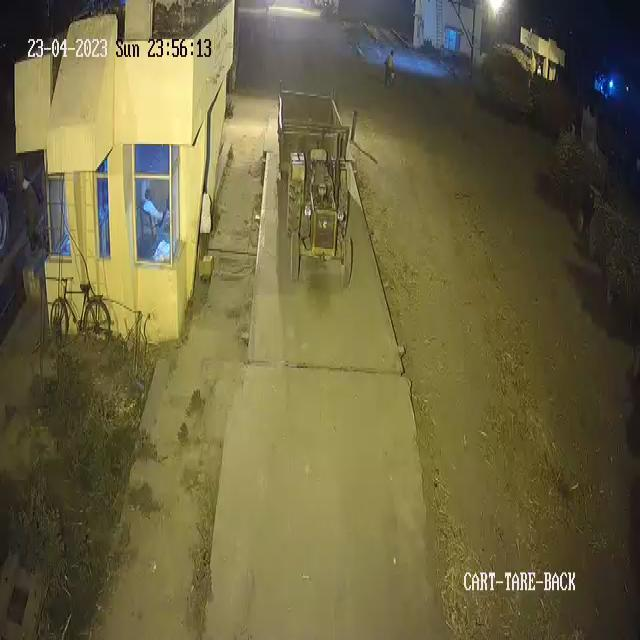Tratores - v5 YOLO V8L 2024-11-13: (280, 148, 356, 298)
